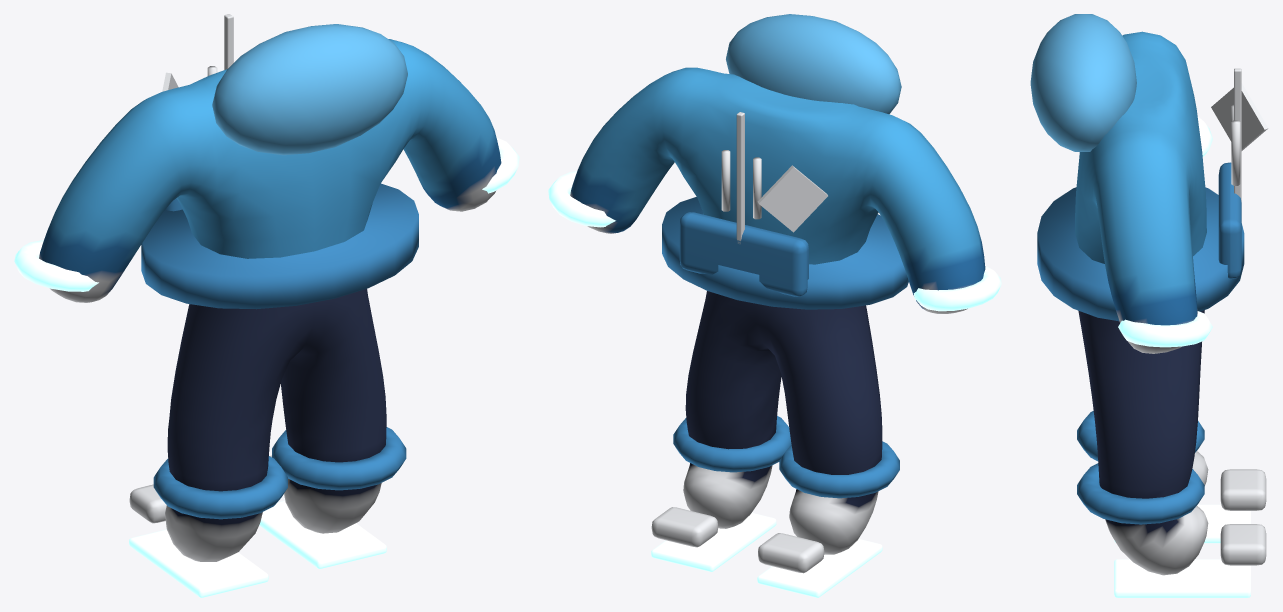
Rendered from avatar_bleu_corps.glb.
3 views of the same model, side by side, from view 1: azimuth 30°, elevation 25°; view 2: azimuth 150°, elevation 25°; view 3: azimuth 270°, elevation 25° (orthographic). The views are drawn at different scales.
Parts seen in each view (by area): view 1: Corps, Capuche, Ourlet, Revers-1, Revers1, Semelle-1, Semelle1, Poignet-1, Bout-1, Poignet1; view 2: Corps, Capuche, Ourlet, Poche, Revers-1, Revers1, Semelle1, Semelle-1, Signe, Bout-1, Bout1, Poignet-1 (+3 smaller); view 3: Corps, Capuche, Ourlet, Semelle1, Revers1, Poche, Poignet1, Bout-1, Bout1, Signe, Semelle-1, Revers-1 (+3 smaller).
Boxes of the visible parts, x1,y1,x2,y2 form: Corps: (39,39,501,561); Capuche: (212,24,407,155); Ourlet: (141,183,418,309); Revers-1: (153,456,287,519); Revers1: (272,427,406,490); Semelle-1: (129,529,268,597); Semelle1: (259,500,386,568); Poignet-1: (14,240,98,291); Bout-1: (129,484,166,523); Poignet1: (482,137,519,193); Corps: (570,67,985,554); Capuche: (726,14,901,114); Ourlet: (662,197,908,309); Poche: (679,212,808,296); Revers-1: (779,441,899,498); Revers1: (673,416,791,472); Semelle1: (651,513,776,571); Semelle-1: (757,539,882,597); Signe: (757,165,827,232); Bout-1: (758,533,824,573); Bout1: (651,507,717,547); Poignet-1: (913,266,1001,311); Corps: (1075,31,1208,575); Capuche: (1030,14,1136,151); Ourlet: (1037,187,1244,321); Semelle1: (1114,559,1250,597); Revers1: (1077,463,1204,524); Poche: (1218,162,1241,279); Poignet1: (1118,311,1212,347); Bout-1: (1220,469,1266,510); Bout1: (1220,524,1266,565); Signe: (1211,83,1268,150); Semelle-1: (1114,504,1250,543); Revers-1: (1077,411,1204,461).
Size of the model in its own units: 1.42 by 1.53 by 0.6257.
